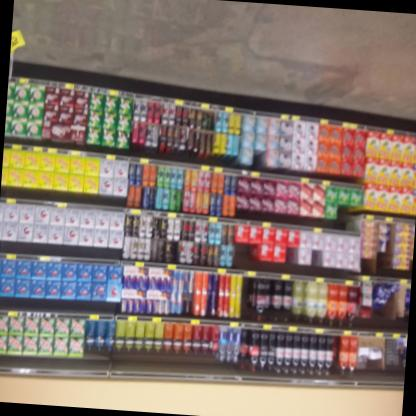empty_space: (234, 243, 254, 270), (241, 279, 251, 318), (337, 206, 348, 228)
